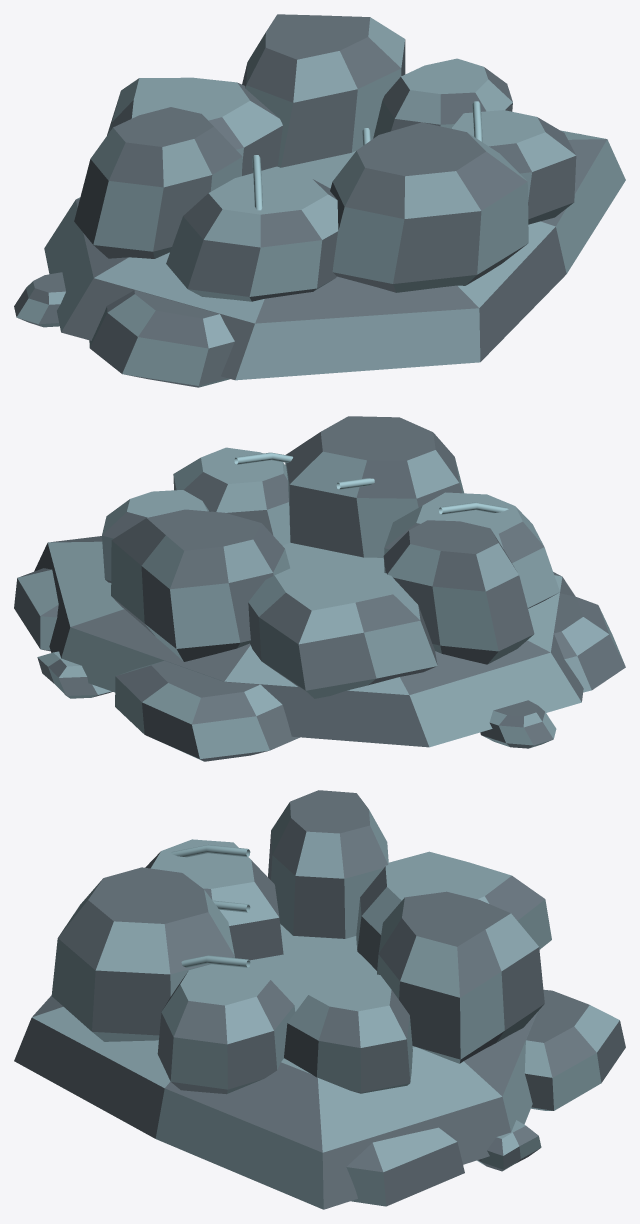
File: BH_ORE_O01_Pedra_Brumosa_V01.glb
3 renders of one model, top to bottom at view 1: azimuth 30°, elevation 25°; view 2: azimuth 150°, elevation 25°; view 3: azimuth 270°, elevation 25°, orthographic. The views are drawn at different scales.
Parts seen in each view (by area): view 1: Bedrock | primary.001, O01 | fractured stone 6.001, O01 | fractured stone 5.001, O01 | fractured stone 2.001, O01 | fractured stone 4.001, Bedrock | shoulder 1.001, O01 | fractured stone 3.001, O01 | fractured stone 7.001, O01 | fractured stone 1.001, Loose chip 2.001; view 2: Bedrock | primary.001, O01 | fractured stone 3.001, O01 | fractured stone 2.001, O01 | fractured stone 6.001, O01 | fractured stone 4.001, Bedrock | shoulder 3.001, O01 | fractured stone 7.001, O01 | fractured stone 5.001, Bedrock | shoulder 1.001, O01 | fractured stone 1.001, Bedrock | shoulder 2.001, Loose chip 2.001 (+2 smaller); view 3: Bedrock | primary.001, O01 | fractured stone 6.001, O01 | fractured stone 2.001, O01 | fractured stone 7.001, O01 | fractured stone 4.001, O01 | fractured stone 1.001, O01 | fractured stone 3.001, Bedrock | shoulder 3.001, O01 | fractured stone 5.001, Bedrock | shoulder 2.001, Loose chip 1.001, O01 | blue mist fissure 1.001 (+1 smaller).
Part boxes in pixels (x1=…): Bedrock | primary.001: x1=44, y1=130, x2=625, y2=380; O01 | fractured stone 6.001: x1=330, y1=122, x2=528, y2=292; O01 | fractured stone 5.001: x1=166, y1=166, x2=338, y2=301; O01 | fractured stone 2.001: x1=242, y1=14, x2=405, y2=167; O01 | fractured stone 4.001: x1=74, y1=107, x2=242, y2=258; Bedrock | shoulder 1.001: x1=89, y1=290, x2=234, y2=387; O01 | fractured stone 3.001: x1=107, y1=77, x2=282, y2=175; O01 | fractured stone 7.001: x1=451, y1=110, x2=576, y2=224; O01 | fractured stone 1.001: x1=373, y1=58, x2=512, y2=138; Loose chip 2.001: x1=14, y1=272, x2=65, y2=327; Bedrock | primary.001: x1=34, y1=536, x2=583, y2=747; O01 | fractured stone 3.001: x1=248, y1=562, x2=437, y2=698; O01 | fractured stone 2.001: x1=111, y1=509, x2=289, y2=661; O01 | fractured stone 6.001: x1=285, y1=416, x2=463, y2=557; O01 | fractured stone 4.001: x1=383, y1=520, x2=534, y2=664; Bedrock | shoulder 3.001: x1=115, y1=660, x2=299, y2=761; O01 | fractured stone 7.001: x1=173, y1=447, x2=290, y2=545; O01 | fractured stone 5.001: x1=384, y1=492, x2=559, y2=608; Bedrock | shoulder 1.001: x1=554, y1=593, x2=625, y2=692; O01 | fractured stone 1.001: x1=102, y1=490, x2=208, y2=582; Bedrock | shoulder 2.001: x1=14, y1=568, x2=58, y2=651; Loose chip 2.001: x1=480, y1=700, x2=556, y2=748; Bedrock | primary.001: x1=14, y1=924, x2=537, y2=1209; O01 | fractured stone 6.001: x1=51, y1=867, x2=234, y2=1041; O01 | fractured stone 2.001: x1=377, y1=891, x2=544, y2=1063; O01 | fractured stone 7.001: x1=157, y1=964, x2=295, y2=1094; O01 | fractured stone 4.001: x1=268, y1=790, x2=388, y2=938; O01 | fractured stone 1.001: x1=284, y1=971, x2=412, y2=1093; O01 | fractured stone 3.001: x1=356, y1=851, x2=551, y2=970; Bedrock | shoulder 3.001: x1=524, y1=989, x2=625, y2=1110; O01 | fractured stone 5.001: x1=145, y1=839, x2=283, y2=960; Bedrock | shoulder 2.001: x1=346, y1=1127, x2=464, y2=1206; Loose chip 1.001: x1=477, y1=1120, x2=541, y2=1171; O01 | blue mist fissure 1.001: x1=170, y1=844, x2=250, y2=857.
Size of the model in its own units: 2.61 by 0.79 by 2.29.
